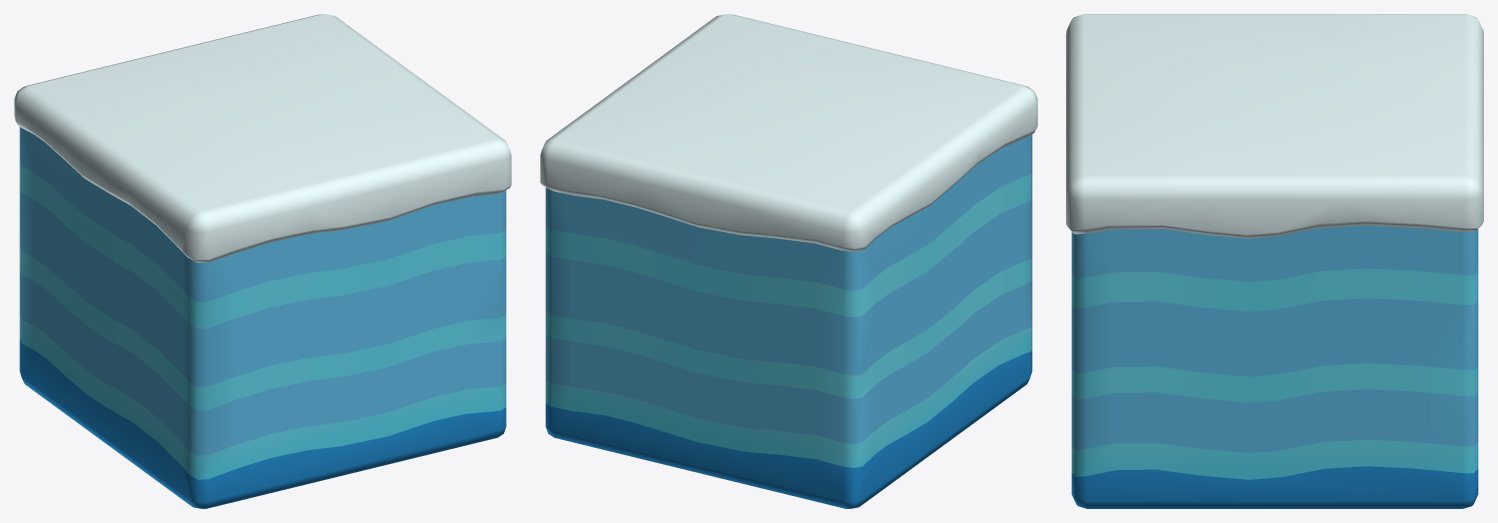
The model's file is ice_platform_003.fbx.
The picture shows the model from 3 angles, left to right: view 1: azimuth 30°, elevation 25°; view 2: azimuth 150°, elevation 25°; view 3: azimuth 270°, elevation 25°; orthographic projection. The views are drawn at different scales.
Parts seen in each view (by area): view 1: ice_platform_003; view 2: ice_platform_003; view 3: ice_platform_003.
Part boxes in pixels (x1,y1,x2,y2): ice_platform_003: (14, 14, 511, 508); ice_platform_003: (540, 14, 1037, 508); ice_platform_003: (1066, 14, 1483, 508).
Size of the model in its own units: 447 by 447 by 400.
